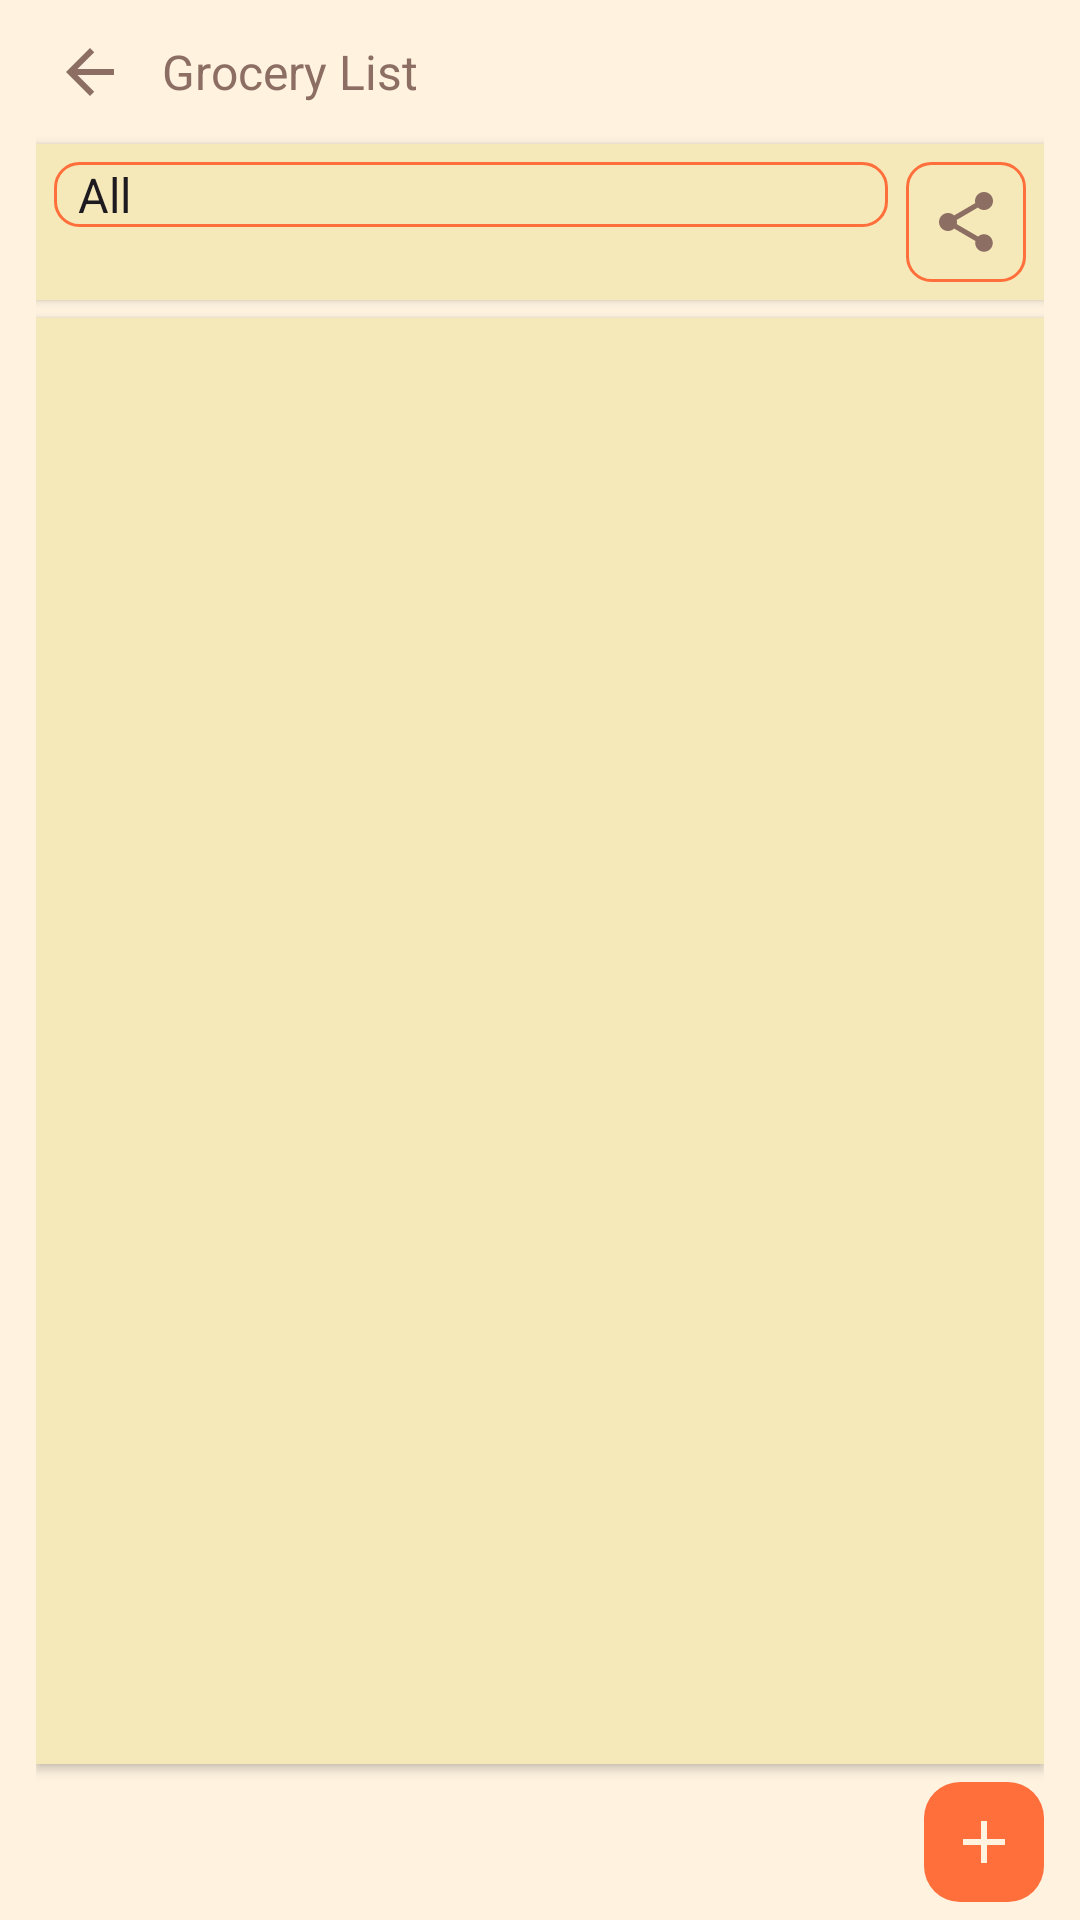

Named icons in this screenshot (1080×1920) and their centers, (x=x, y=y):
Add Item: (x=984, y=1842)
Back to Home: (x=90, y=72)
